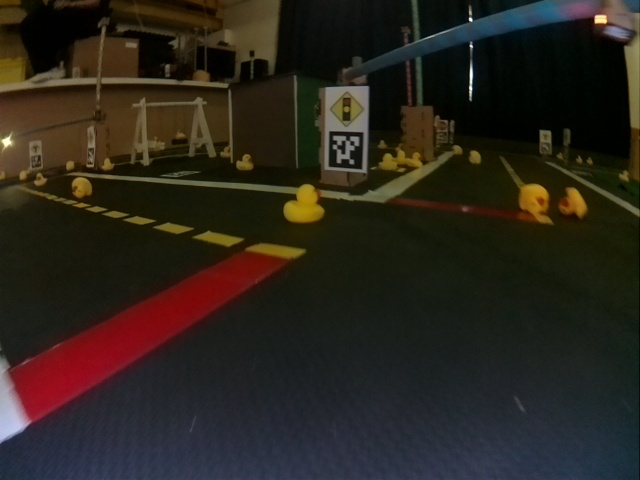Duckie: (284, 185, 324, 223), (559, 187, 587, 217), (520, 184, 548, 214), (73, 179, 92, 197), (379, 154, 396, 170), (238, 156, 253, 170), (450, 144, 460, 154), (101, 160, 110, 170), (66, 160, 74, 169)
QR code: (328, 132, 363, 168)
Signal sign: (329, 90, 366, 126)
